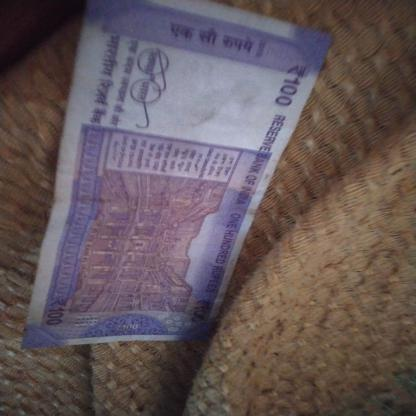New100Back: (58, 9, 310, 343)
